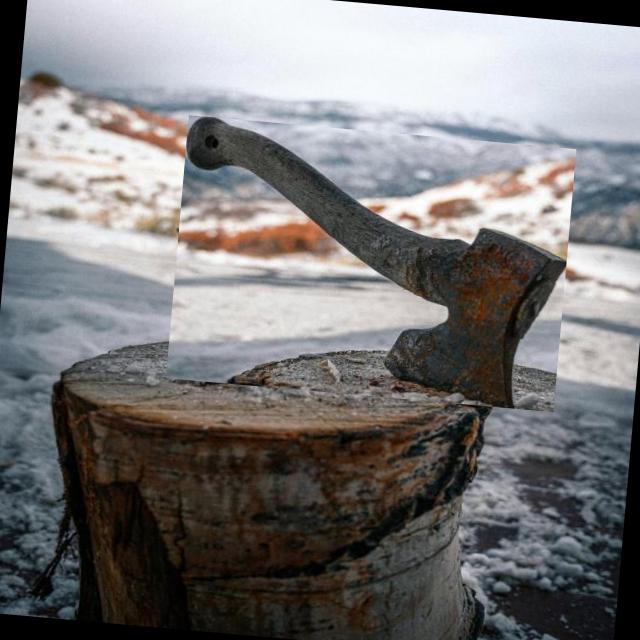Axe: (186, 117, 565, 408)
